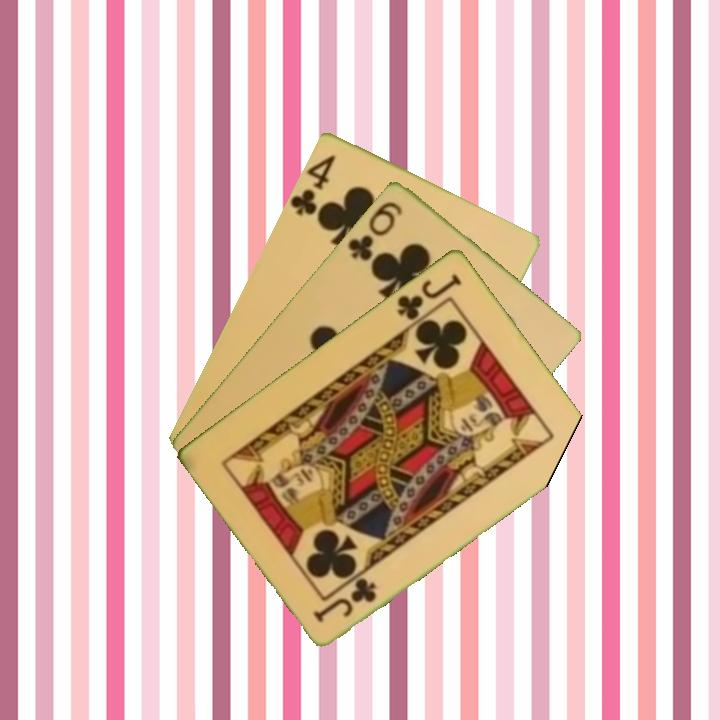4c: (287, 150, 339, 219)
6c: (344, 197, 406, 264)
Jc: (393, 269, 465, 323), (310, 573, 380, 625)
